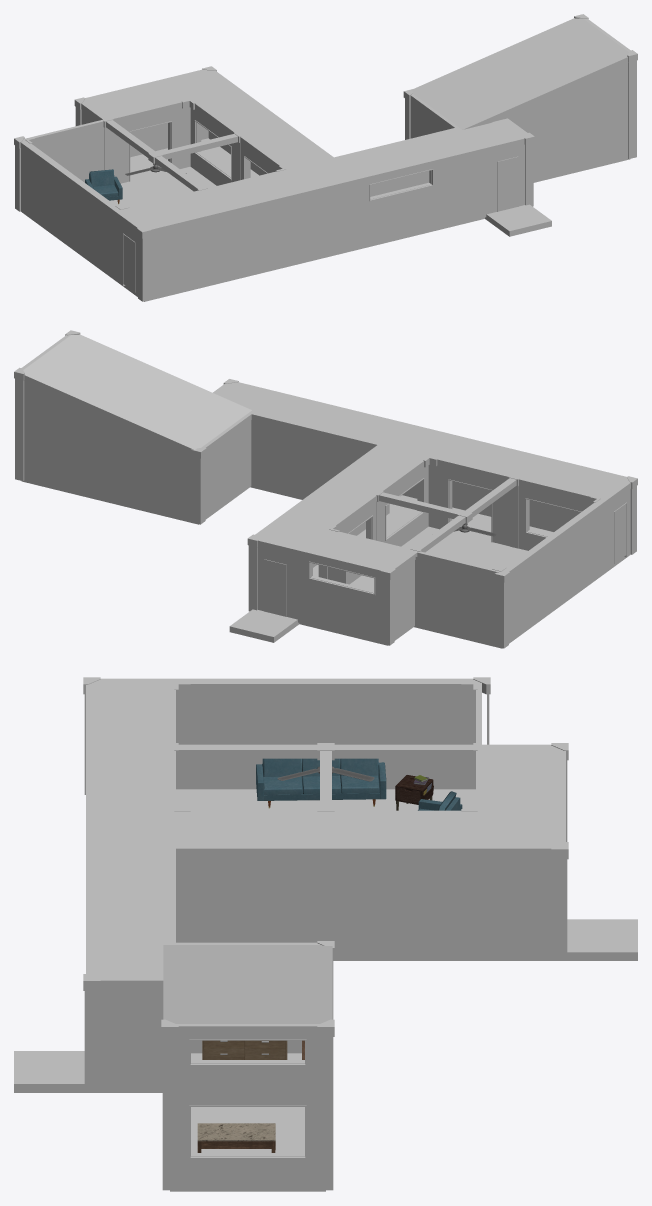
The picture shows the model from 3 angles, top to bottom: view 1: azimuth 30°, elevation 25°; view 2: azimuth 150°, elevation 25°; view 3: azimuth 270°, elevation 25°; orthographic projection. The views are drawn at different scales.
Parts seen in each view (by area): view 1: AtriumHouse_Mesh, armchair1; view 2: AtriumHouse_Mesh; view 3: AtriumHouse_Mesh, couch1, desk1, Dresser, endtable1.
Part boxes in pixels (box(x1,y1,x2,y2)): AtriumHouse_Mesh: box(14, 14, 637, 301); armchair1: box(85, 169, 122, 204); AtriumHouse_Mesh: box(14, 330, 637, 648); AtriumHouse_Mesh: box(14, 677, 637, 1191); couch1: box(256, 758, 386, 808); desk1: box(197, 1123, 275, 1152); Dresser: box(202, 1040, 287, 1059); endtable1: box(395, 775, 433, 810).
Size of what is drawn, in the model's own units: 24.44 by 4.77 by 16.
